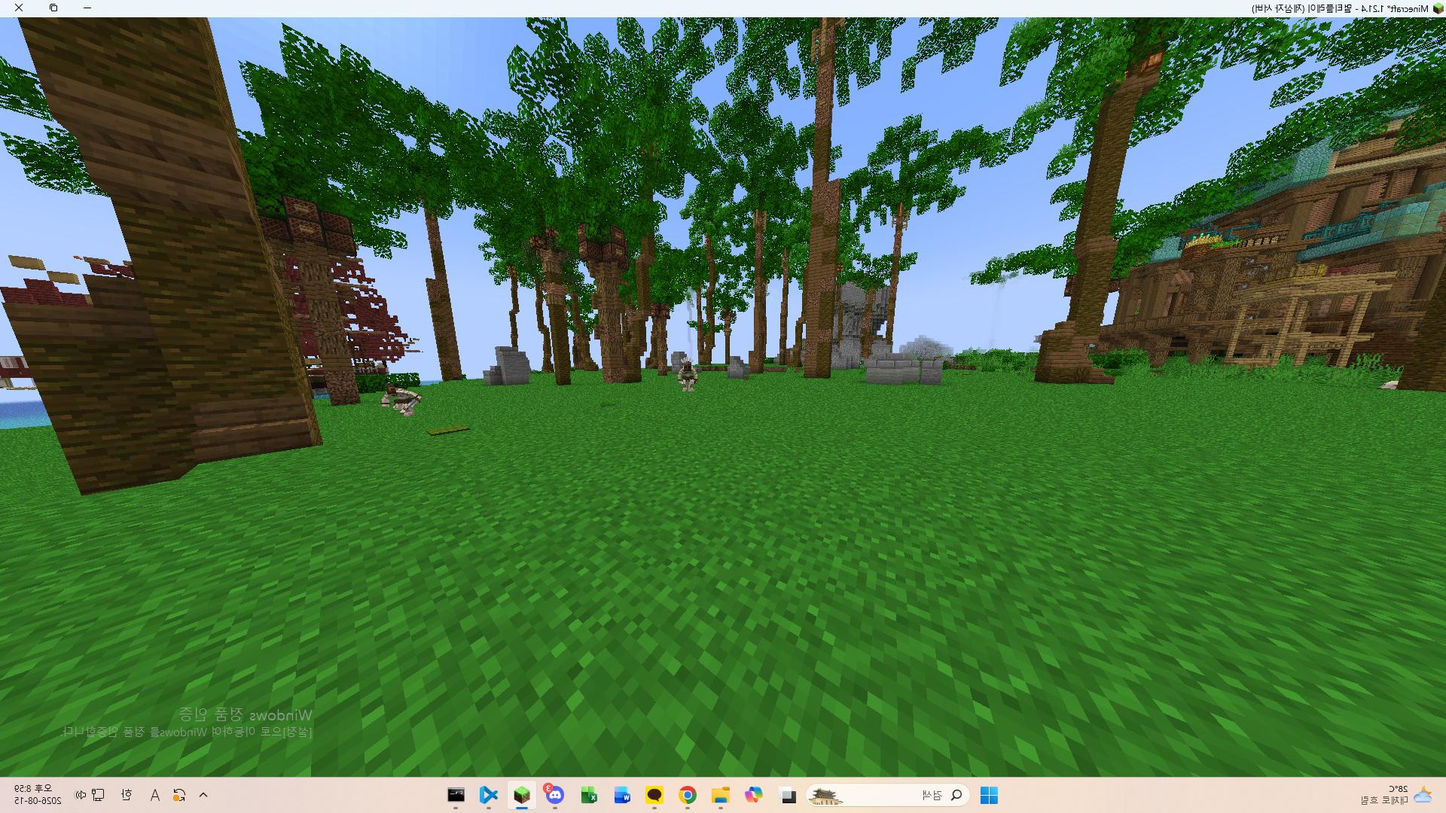bow_indian: (667, 353, 704, 397)
